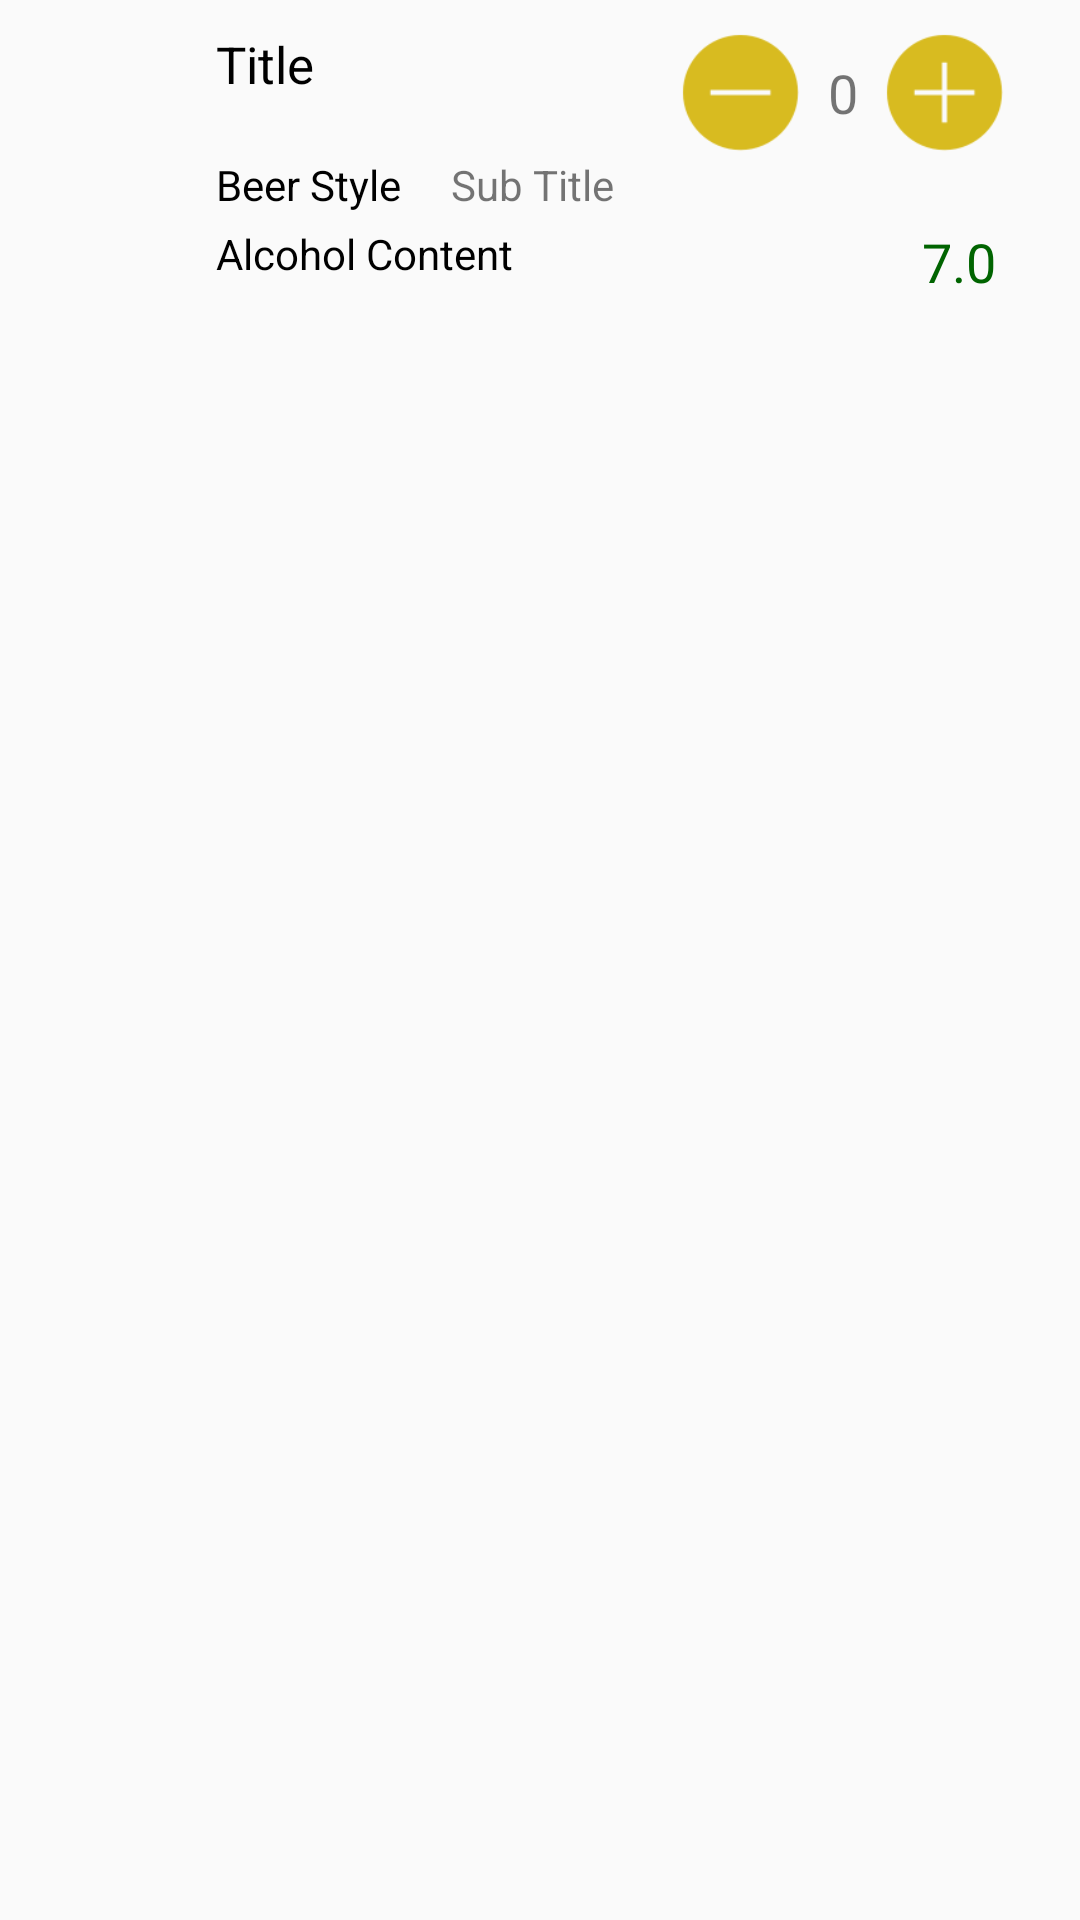

Locate icon controls on the screen. Image size 1080×1920, boxes as (x1, y1, x2, y2).
minus: (683, 35, 799, 151)
plus: (887, 35, 1003, 151)
